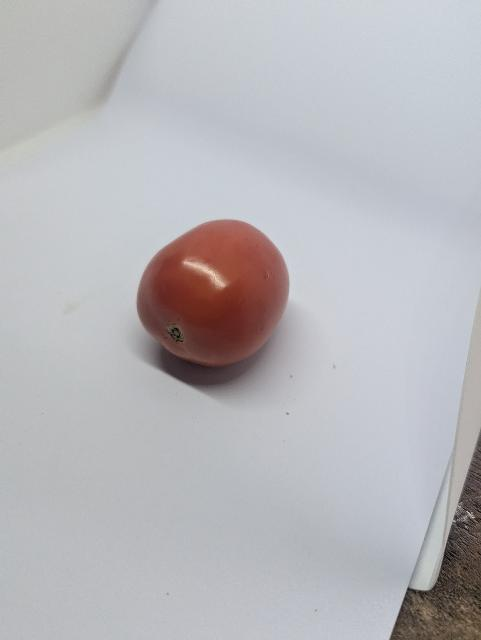red: (130, 209, 302, 380)
